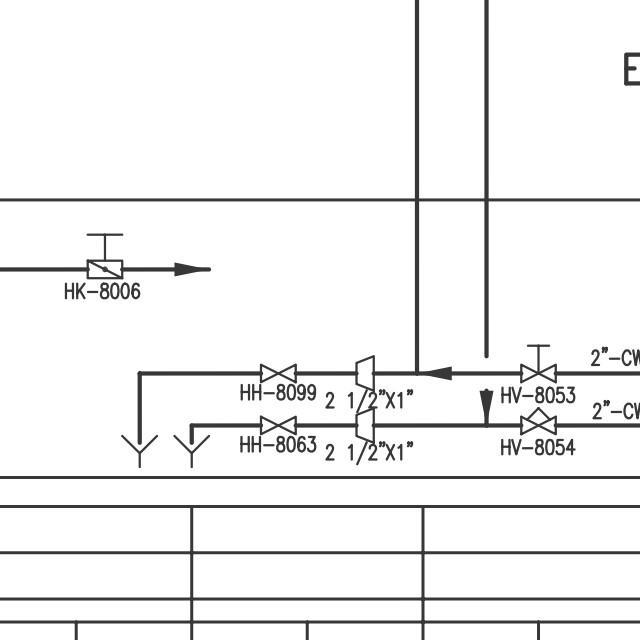BV: (81, 228, 128, 285)
GV: (259, 413, 299, 436), (256, 362, 301, 382)
HV: (515, 338, 561, 383)
SP: (354, 405, 379, 446), (351, 353, 378, 390)
